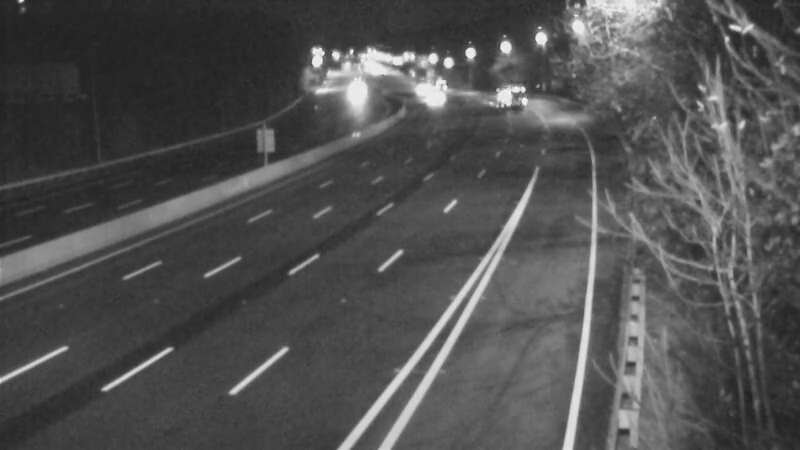vehicle: (414, 60, 464, 110), (398, 59, 448, 109), (476, 68, 526, 118), (406, 72, 456, 122), (330, 69, 380, 119)
